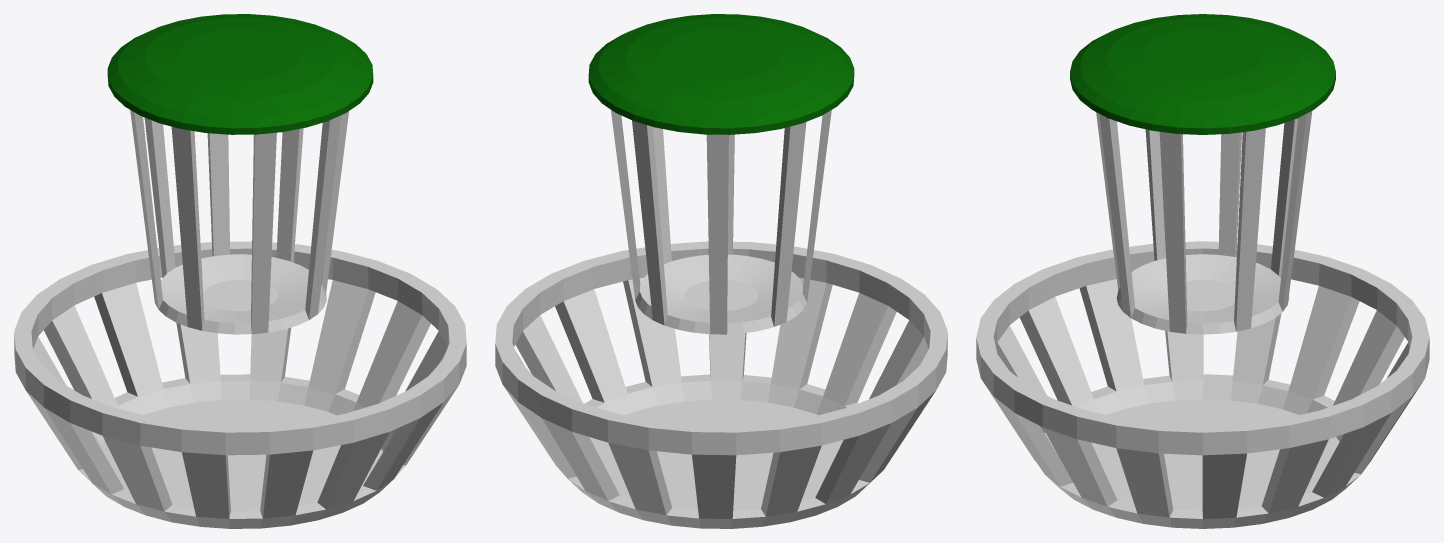
File: Goal.fbx
3 views of the same model, side by side, from view 1: azimuth 30°, elevation 25°; view 2: azimuth 150°, elevation 25°; view 3: azimuth 270°, elevation 25° (orthographic).
Parts seen in each view (by area): view 1: Base, Net, Cylinder; view 2: Base, Cylinder, Net; view 3: Base, Net, Cylinder.
Part boxes in pixels (x1,y1,x2,y2): Base: (14,241,466,528); Net: (130,110,348,334); Cylinder: (107,14,373,134); Base: (495,241,947,528); Cylinder: (588,14,854,134); Net: (611,110,831,334); Base: (976,241,1429,528); Net: (1096,111,1312,334); Cylinder: (1070,14,1335,134).
Size of the model in its own units: 264 by 263 by 264.
